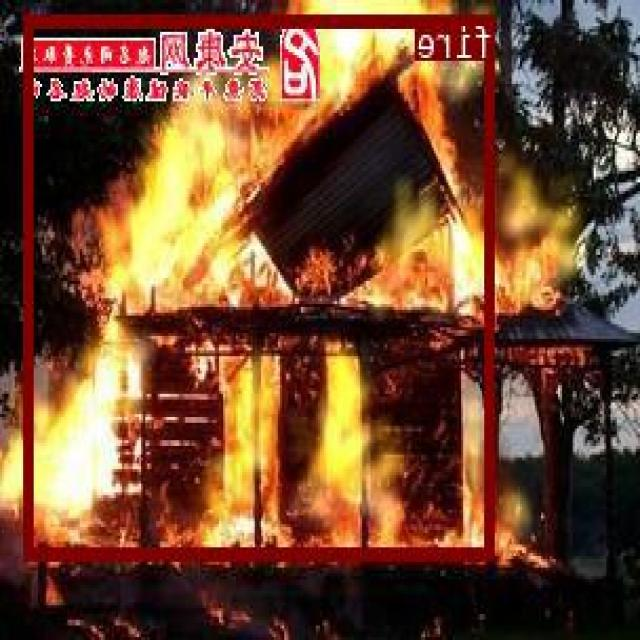fire: (26, 12, 497, 557)
